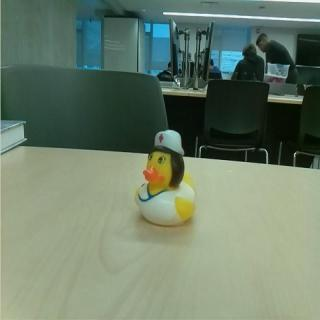duck_specialty: (134, 129, 198, 228)
